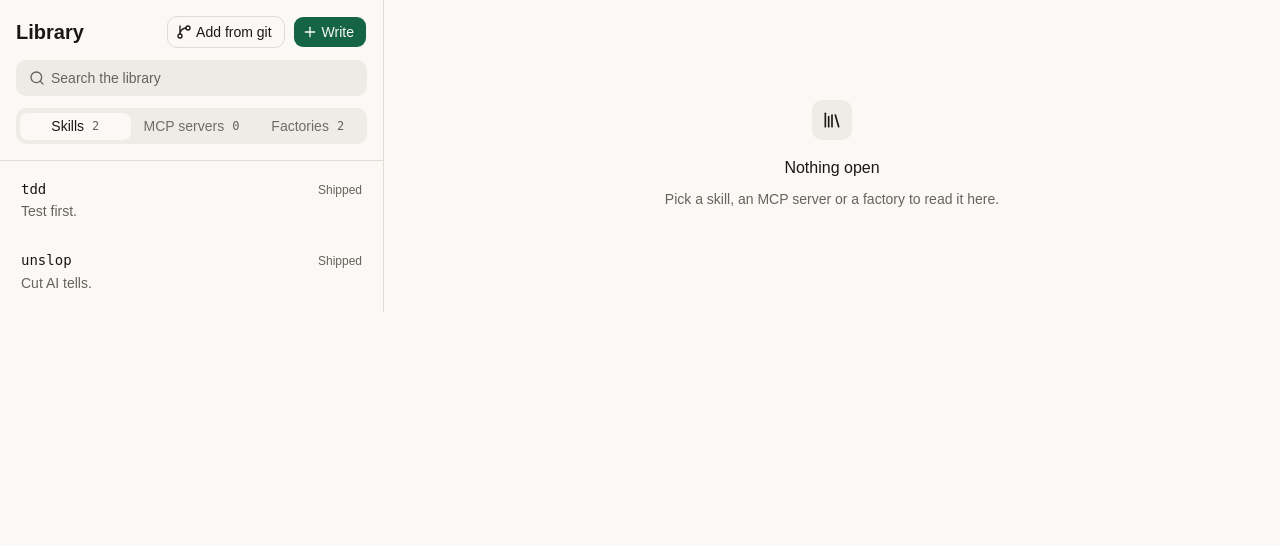
Test case: LibraryPage › opens a skill's SKILL.md to edit and lists its other files
Click the button with aria-label "tdd, shipped skill".
click(340, 190)  # box x1=8 y1=169 x2=375 y2=232
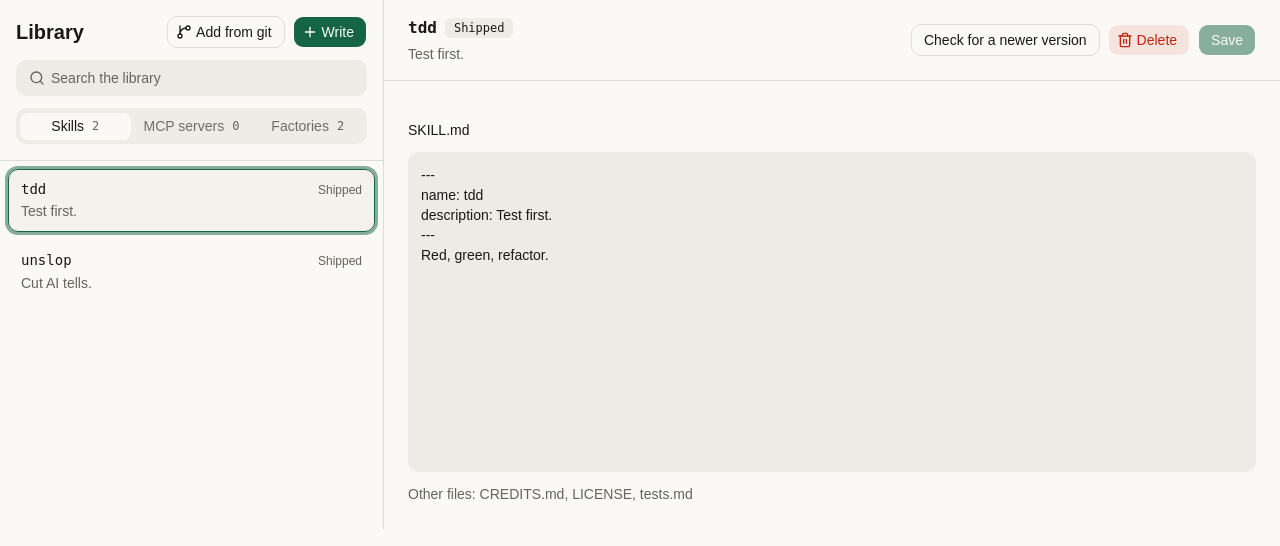
Expected: the text "Other files: CREDITS.md, LICENSE, tests.md" is shown, x1=408 y1=486 x2=693 y2=502
